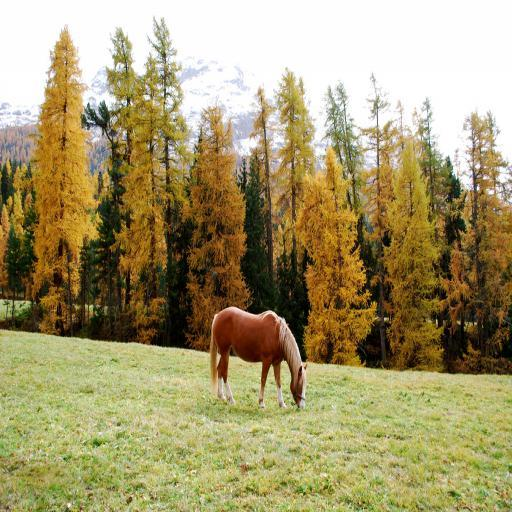Horse: (208, 305, 308, 410)
